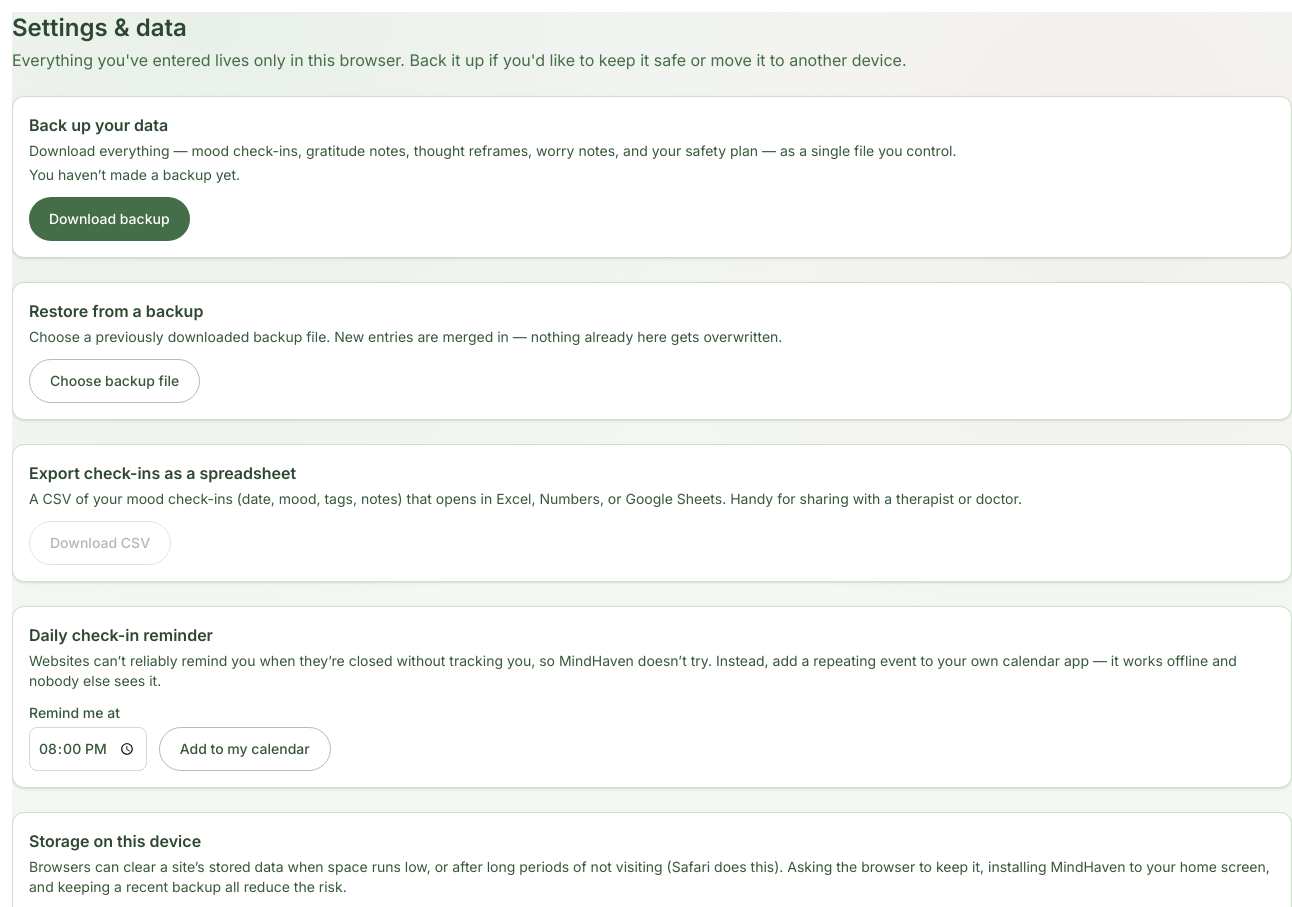
Scenario: Settings: backup › says when there has been no backup, then records one on download
Expected: the text "You haven’t made a backup yet." is shown, [29, 166, 240, 183]
Click the button "Download backup": (109, 219) [29, 197, 190, 241]
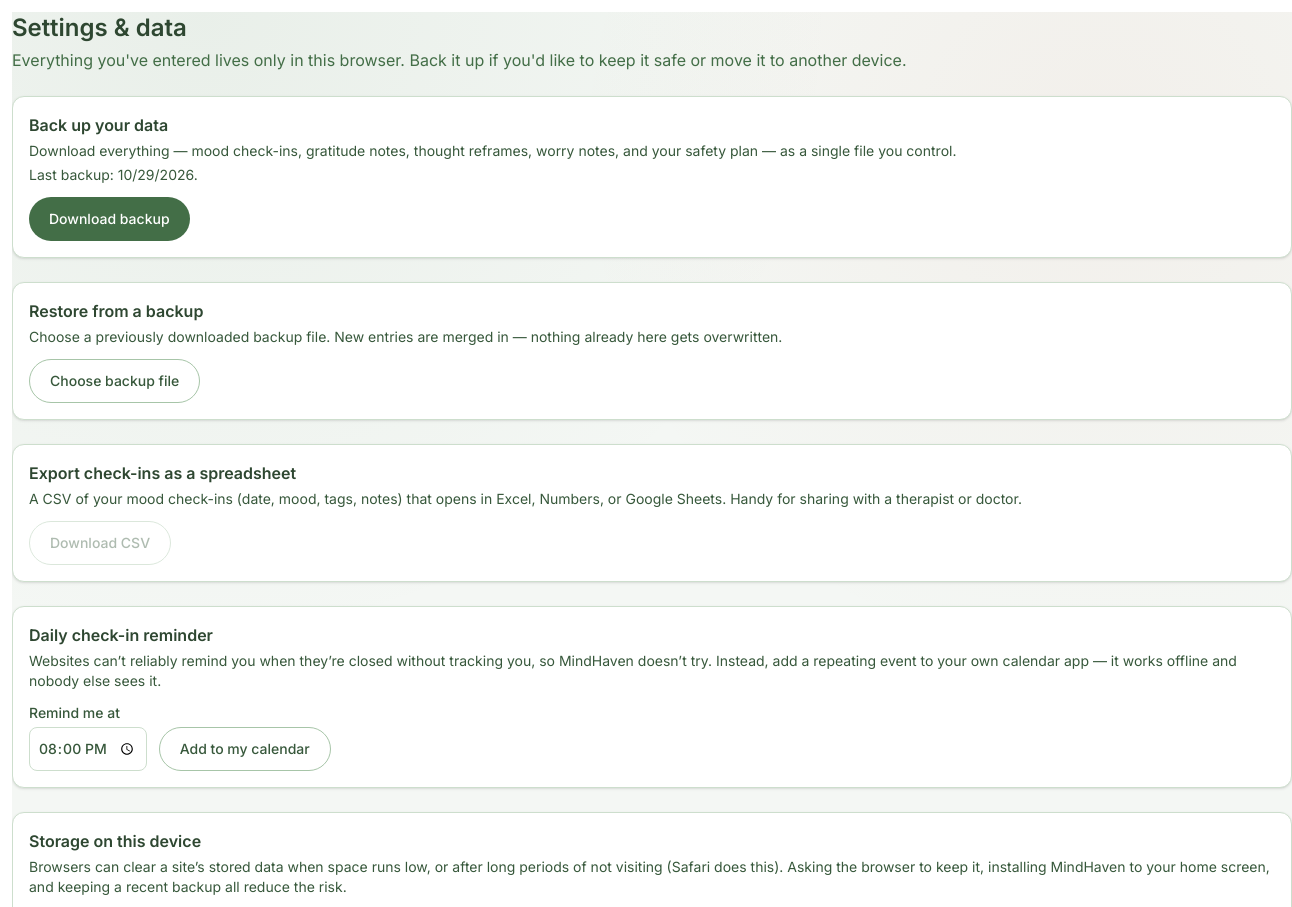
Now the text "Last backup: 10/29/2026." is shown, box [29, 166, 198, 183]
